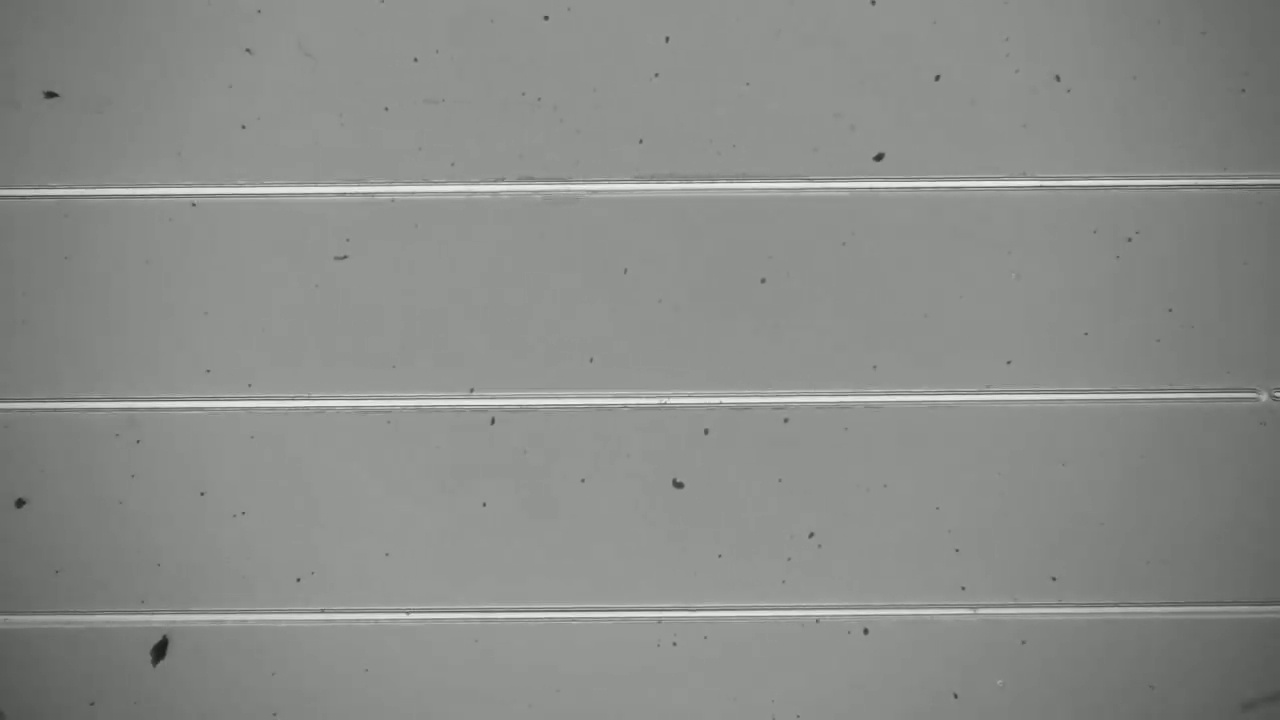open: (1239, 372, 1279, 414)
